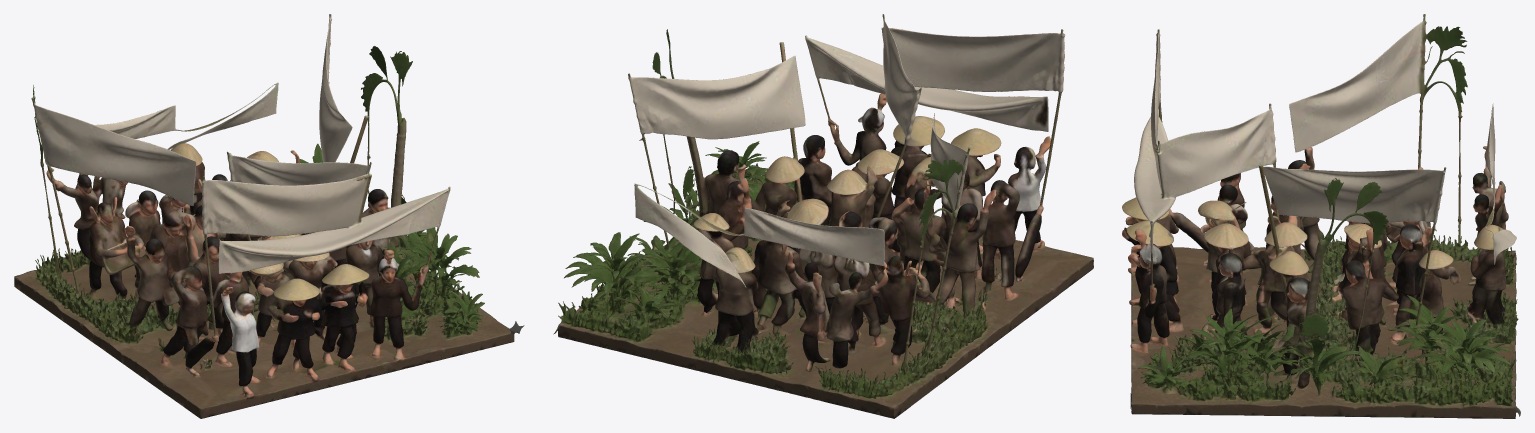
Rendered from mien_nam_dau_tranh.glb.
3 views of the same model, side by side, from view 1: azimuth 30°, elevation 25°; view 2: azimuth 150°, elevation 25°; view 3: azimuth 270°, elevation 25° (orthographic). The views are drawn at different scales.
Size of the model in its own units: 1.88 by 1.19 by 1.78.
Materials: 1 (1 with a texture image).
